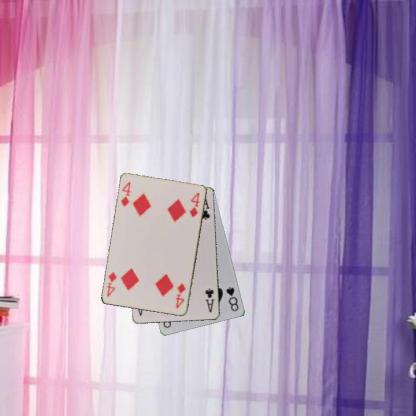4d: (173, 280, 187, 310), (118, 179, 132, 208)
8s: (223, 284, 240, 313)
Ac: (203, 286, 215, 314)
